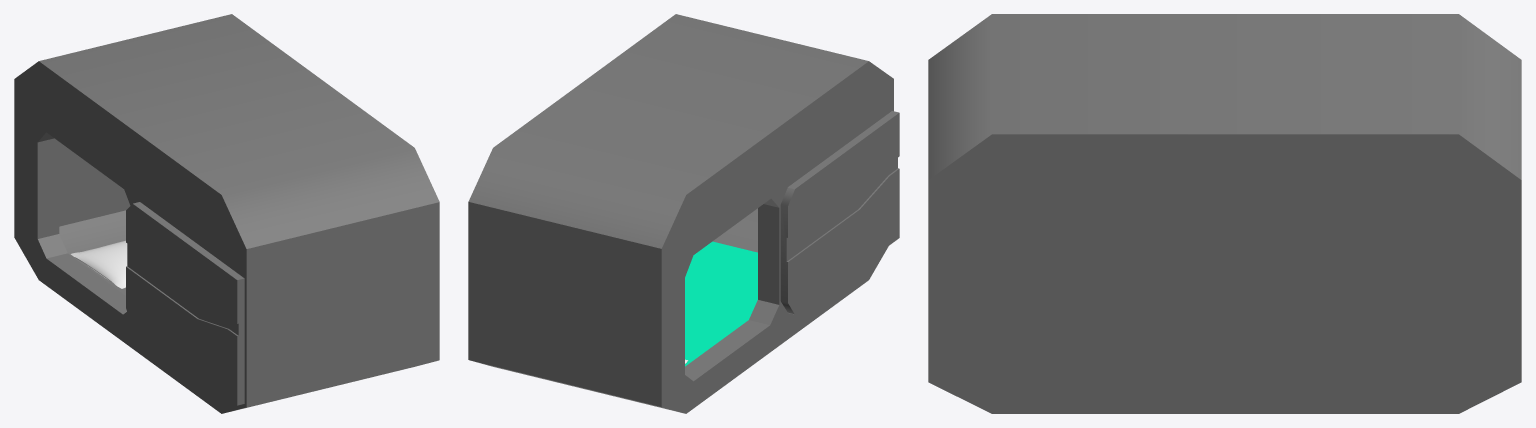
Rendered from Capsula_Individual_Abierta.obj.
The picture shows the model from 3 angles, left to right: view 1: azimuth 30°, elevation 25°; view 2: azimuth 150°, elevation 25°; view 3: azimuth 270°, elevation 25°; orthographic projection. The views are drawn at different scales.
Parts seen in each view (by area): view 1: Capsula5 Capsula_Individual_Abierta Capsula_Individual_Abierta, Capsula_Individual_Abierta Capsula_Individual_Abierta pCube13, Capsula_Individual_Abierta Capsula_Individual_Abierta pCube8, Capsula_Individual_Abierta Capsula_Individual_Abierta pCube2, Capsula_Individual_Abierta pCube1 Almohada1, Capsula_Individual_Abierta Capsula_Individual_Abierta pCube4; view 2: Capsula5 Capsula_Individual_Abierta Capsula_Individual_Abierta, Capsula_Individual_Abierta Capsula_Individual_Abierta pCube13, Capsula_Individual_Abierta Capsula_Individual_Abierta pPlane1, Capsula_Individual_Abierta Capsula_Individual_Abierta pCube9, Capsula_Individual_Abierta Capsula_Individual_Abierta pCube2, Capsula_Individual_Abierta Capsula_Individual_Abierta pCube5; view 3: Capsula5 Capsula_Individual_Abierta Capsula_Individual_Abierta.
Part boxes in pixels (x1,y1,x2,y2): Capsula5 Capsula_Individual_Abierta Capsula_Individual_Abierta: (14,14,439,413); Capsula_Individual_Abierta Capsula_Individual_Abierta pCube13: (126,202,244,405); Capsula_Individual_Abierta Capsula_Individual_Abierta pCube8: (35,138,59,242); Capsula_Individual_Abierta Capsula_Individual_Abierta pCube2: (46,253,126,318); Capsula_Individual_Abierta pCube1 Almohada1: (71,240,127,288); Capsula_Individual_Abierta Capsula_Individual_Abierta pCube4: (35,234,67,261); Capsula5 Capsula_Individual_Abierta Capsula_Individual_Abierta: (468,14,893,413); Capsula_Individual_Abierta Capsula_Individual_Abierta pCube13: (780,111,899,314); Capsula_Individual_Abierta Capsula_Individual_Abierta pPlane1: (685,241,757,366); Capsula_Individual_Abierta Capsula_Individual_Abierta pCube9: (758,204,781,308); Capsula_Individual_Abierta Capsula_Individual_Abierta pCube2: (685,320,770,384); Capsula_Individual_Abierta Capsula_Individual_Abierta pCube5: (749,300,779,327); Capsula5 Capsula_Individual_Abierta Capsula_Individual_Abierta: (928,14,1521,413).
Bounding box in the file's own units: 1.26 × 1.31 × 2.52.
